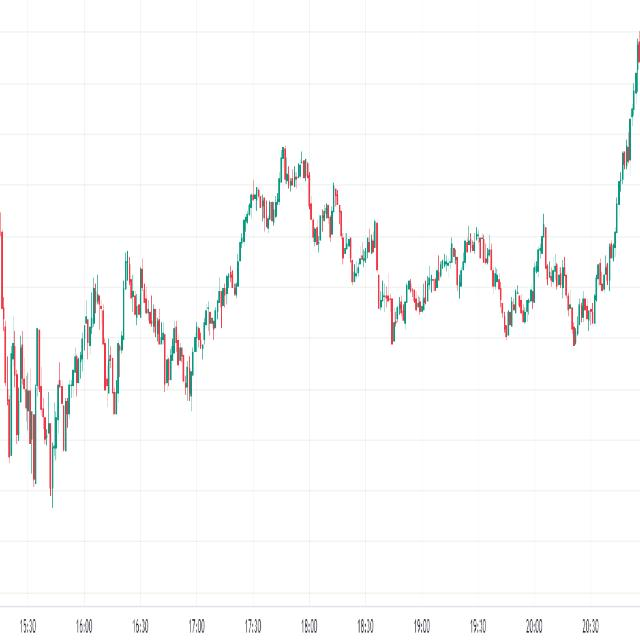Ascending-Triangle: (2, 244, 246, 541)
Rounding-Top: (233, 127, 398, 310)
